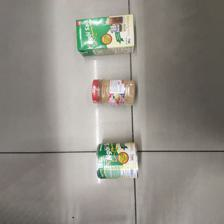Hao_hao: (92, 78, 137, 106)
NSPN_Hop: (76, 14, 135, 56)
NSPN_Lon: (95, 140, 140, 180)
